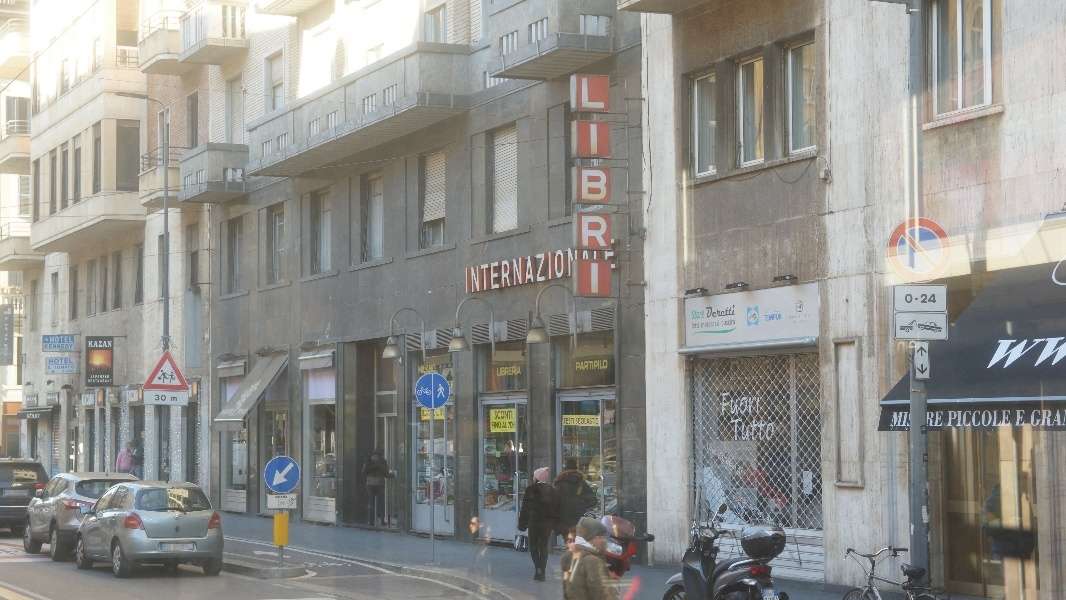text: (593, 78, 608, 297), (582, 78, 592, 297), (465, 237, 480, 296), (481, 237, 496, 296), (497, 237, 512, 296), (513, 237, 528, 296), (529, 237, 544, 296), (545, 237, 560, 296), (561, 237, 576, 296), (577, 237, 592, 296), (593, 237, 608, 296), (609, 237, 623, 296), (753, 462, 768, 513), (769, 462, 784, 513), (721, 441, 736, 478), (1009, 336, 1024, 370), (1025, 336, 1040, 370), (1041, 336, 1056, 370), (707, 441, 720, 478), (721, 389, 736, 417), (737, 389, 752, 417), (785, 462, 793, 513), (753, 502, 768, 529), (737, 417, 752, 442), (753, 417, 768, 442), (997, 336, 1008, 370), (1041, 408, 1056, 428), (769, 502, 780, 529), (737, 441, 745, 478), (1057, 336, 1065, 370), (961, 410, 976, 428), (977, 410, 992, 428), (993, 410, 1008, 428), (929, 411, 944, 428), (897, 411, 911, 429), (753, 389, 762, 417), (947, 410, 960, 428), (721, 304, 736, 318), (593, 359, 609, 372), (728, 417, 736, 442), (706, 304, 720, 318), (577, 359, 592, 372), (81, 394, 96, 406), (497, 365, 512, 377), (1031, 408, 1040, 428), (769, 417, 776, 442), (497, 410, 513, 420), (749, 462, 752, 513), (1015, 410, 1024, 427), (418, 364, 432, 374), (1057, 408, 1064, 428), (577, 417, 592, 426), (705, 320, 720, 329), (721, 318, 736, 327), (129, 390, 139, 403), (49, 336, 64, 344), (692, 310, 704, 320), (563, 417, 576, 426), (769, 313, 782, 322), (434, 409, 448, 417), (513, 365, 522, 377), (49, 358, 64, 365), (97, 341, 112, 348), (225, 409, 240, 416), (692, 322, 704, 330), (49, 344, 64, 350), (49, 365, 64, 371), (929, 294, 937, 305), (749, 502, 752, 529), (422, 409, 432, 417), (921, 294, 928, 305), (97, 379, 112, 384), (65, 336, 74, 344), (593, 417, 601, 426), (892, 411, 896, 429), (241, 409, 251, 416), (440, 408, 448, 416), (65, 358, 74, 365), (503, 422, 512, 429), (65, 365, 75, 371), (582, 400, 592, 406), (906, 294, 912, 304), (463, 237, 464, 296), (88, 341, 96, 348), (802, 314, 816, 318), (1009, 410, 1012, 428), (97, 376, 110, 380), (33, 413, 40, 420), (65, 344, 73, 350), (788, 315, 800, 319), (449, 380, 454, 389), (753, 312, 758, 321), (763, 313, 768, 322), (66, 370, 80, 373), (88, 379, 96, 384), (433, 364, 437, 374), (275, 496, 288, 499), (915, 298, 928, 301), (161, 395, 167, 401), (27, 413, 32, 420), (49, 395, 56, 400), (497, 422, 502, 429), (793, 320, 800, 325), (926, 411, 928, 428), (1025, 410, 1027, 427), (508, 421, 512, 429), (513, 421, 517, 429), (801, 320, 807, 325), (155, 395, 160, 401), (492, 422, 496, 429), (769, 590, 773, 597), (701, 320, 704, 329), (126, 390, 128, 403), (27, 397, 32, 402), (171, 397, 176, 402), (44, 344, 48, 350), (65, 349, 73, 352), (90, 376, 96, 380), (145, 518, 153, 521), (765, 590, 768, 597), (797, 304, 800, 311), (201, 518, 208, 521), (750, 312, 752, 321), (575, 359, 576, 372), (60, 349, 64, 352), (593, 400, 595, 406), (33, 397, 35, 402), (495, 410, 496, 420), (913, 294, 914, 304), (223, 409, 224, 416), (801, 304, 802, 311), (47, 365, 48, 371), (62, 370, 64, 373), (47, 395, 48, 400), (177, 397, 178, 402), (799, 315, 800, 318), (209, 518, 210, 521)
